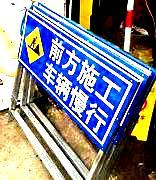sign: (23, 12, 123, 139)
